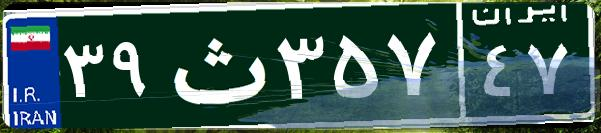3: (273, 28, 330, 110), (57, 26, 110, 107)
4: (475, 38, 525, 113)
5: (330, 28, 385, 110)
7: (385, 28, 445, 110), (525, 38, 570, 115)
9: (110, 28, 158, 105)
ث: (158, 15, 273, 115)
